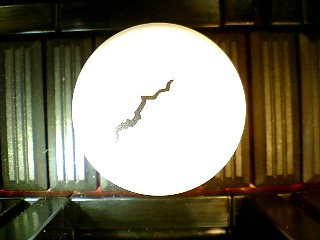CRACK: (71, 22, 247, 196)
